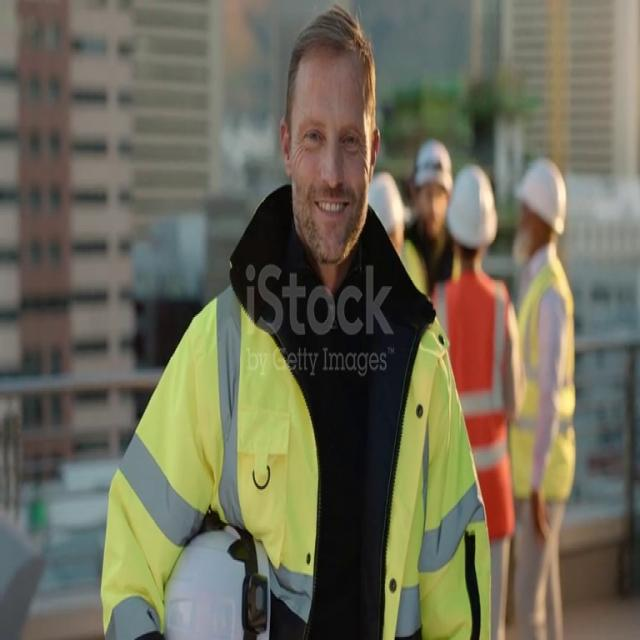capacete: (156, 494, 280, 640), (515, 144, 574, 250), (448, 157, 503, 248), (408, 116, 457, 201), (369, 167, 412, 239)
